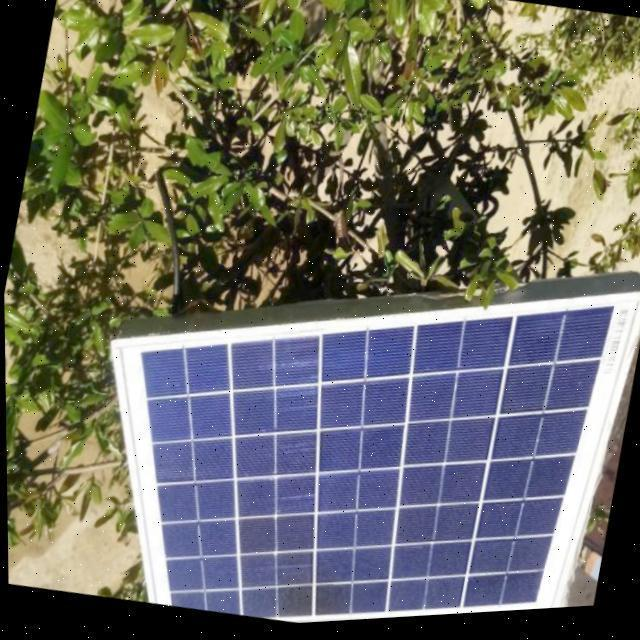Normal Solar Panel: (60, 198, 640, 638)
